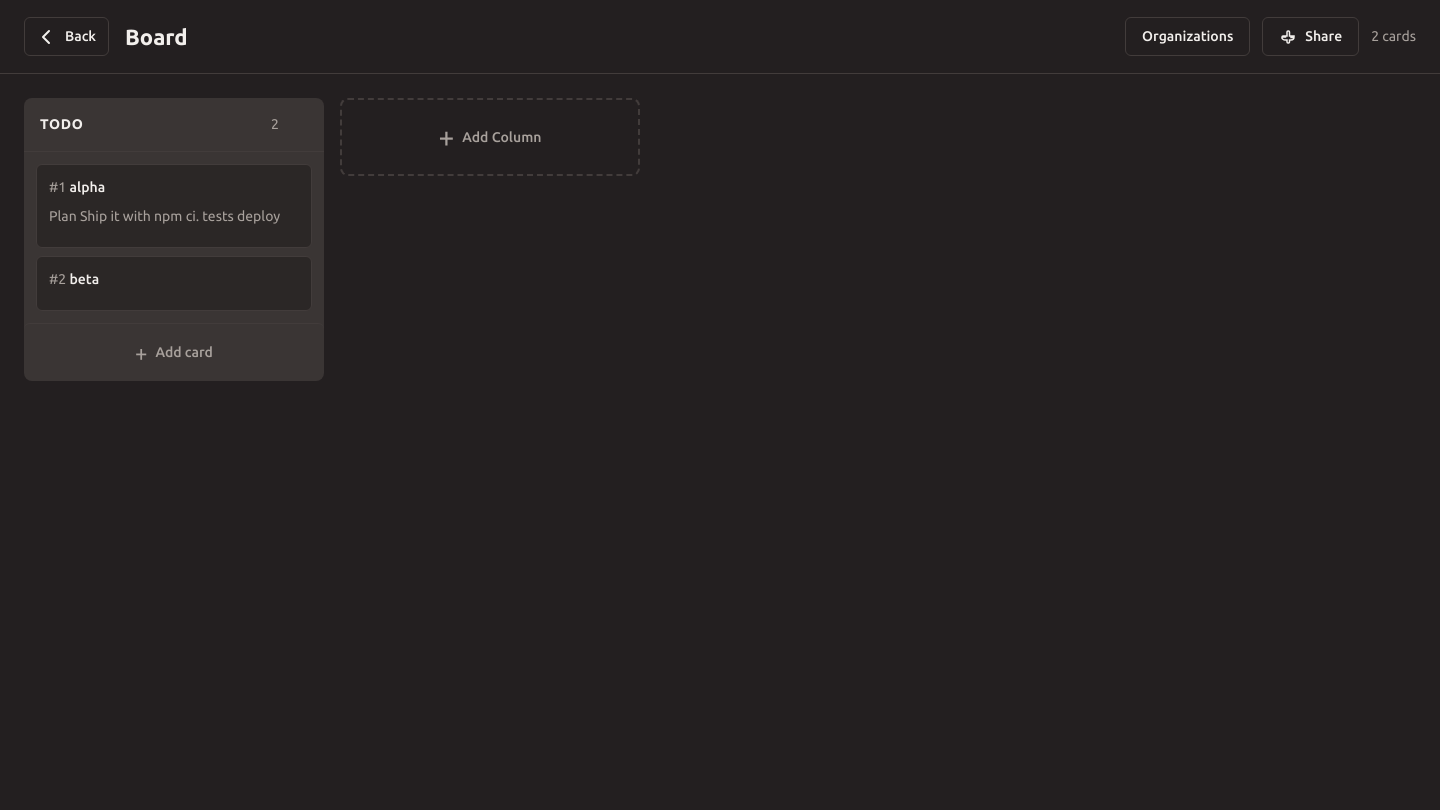
an open card › cancelling an edit keeps the card as it was
The width and height of the screenshot is (1440, 810).
Click the button "#1 alpha Plan Ship it with npm ci. tests deploy" at (174, 206), box [36, 164, 312, 248]
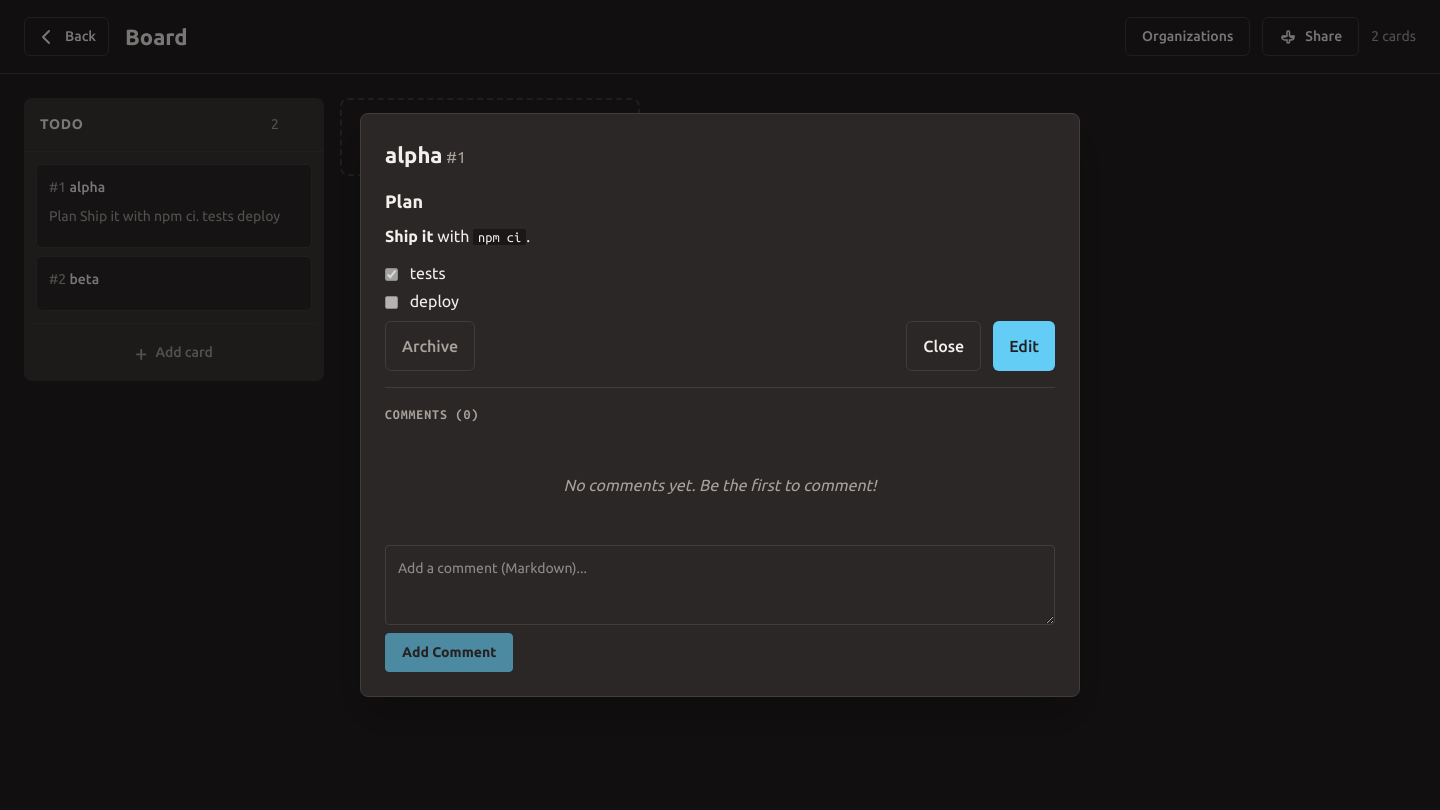
Click the button "Edit" at (1024, 346), box [993, 321, 1055, 371]
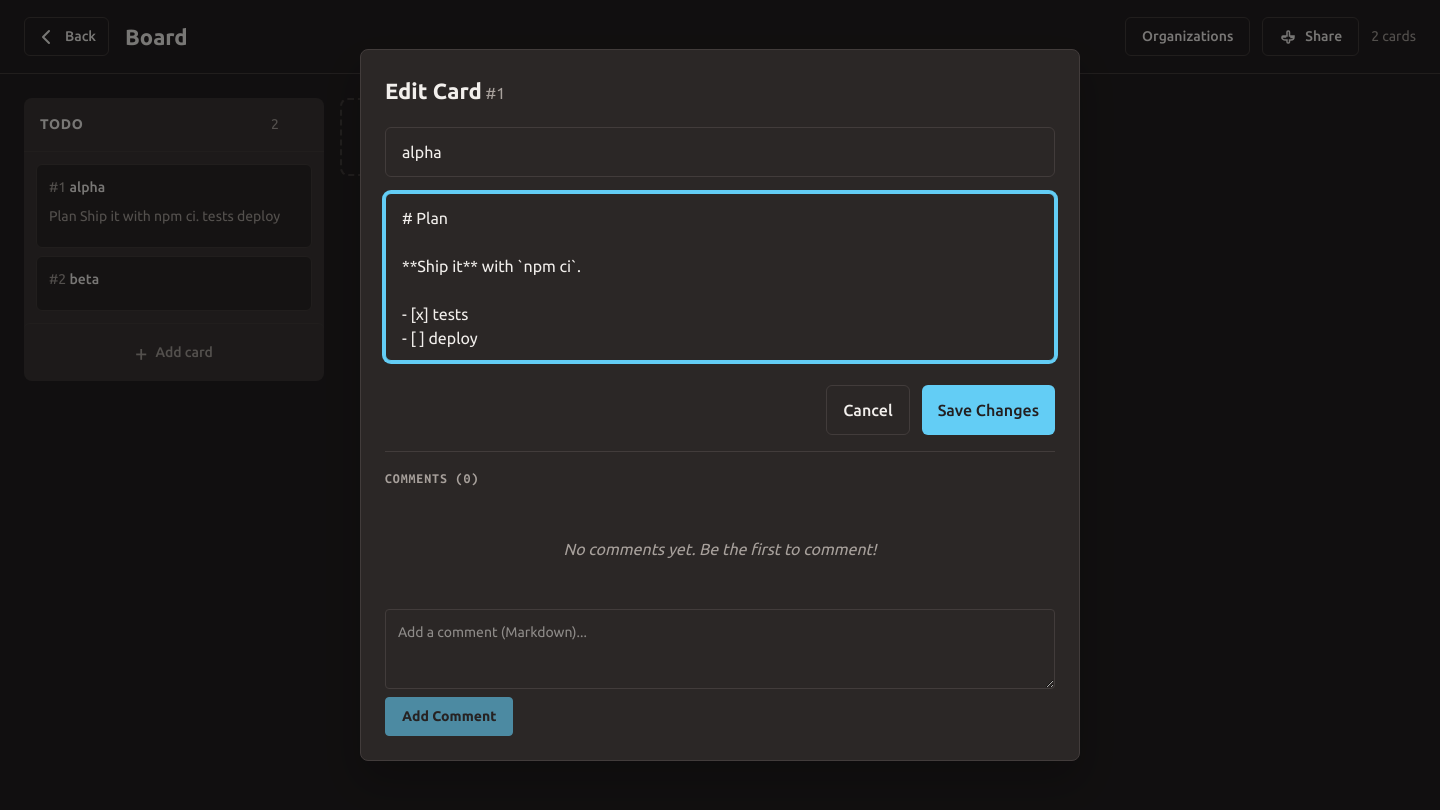
Replace the text in the text box named "Description" with "scrap" at (720, 277), box [385, 193, 1055, 361]
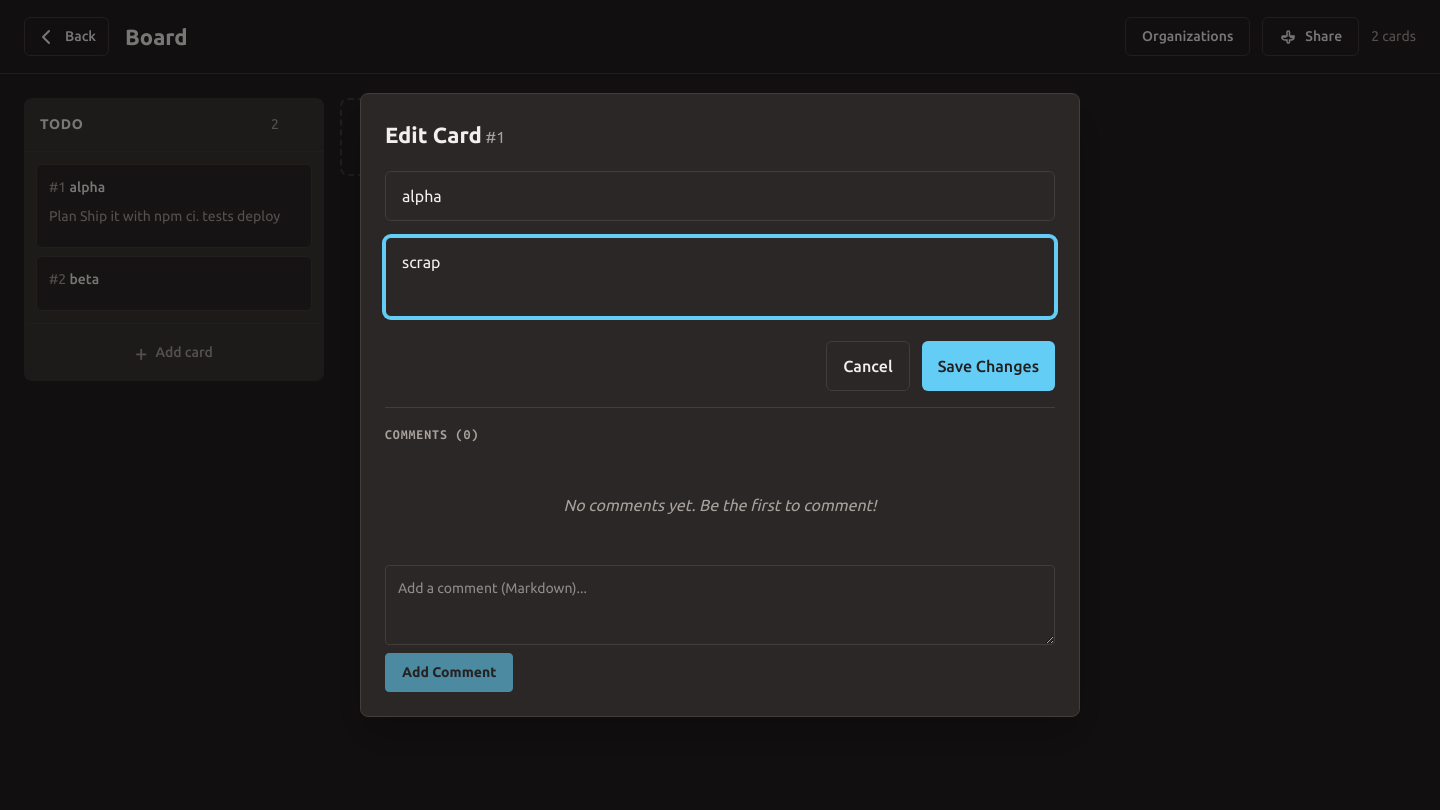
Click the button "Cancel" at (868, 366), box [826, 341, 910, 391]
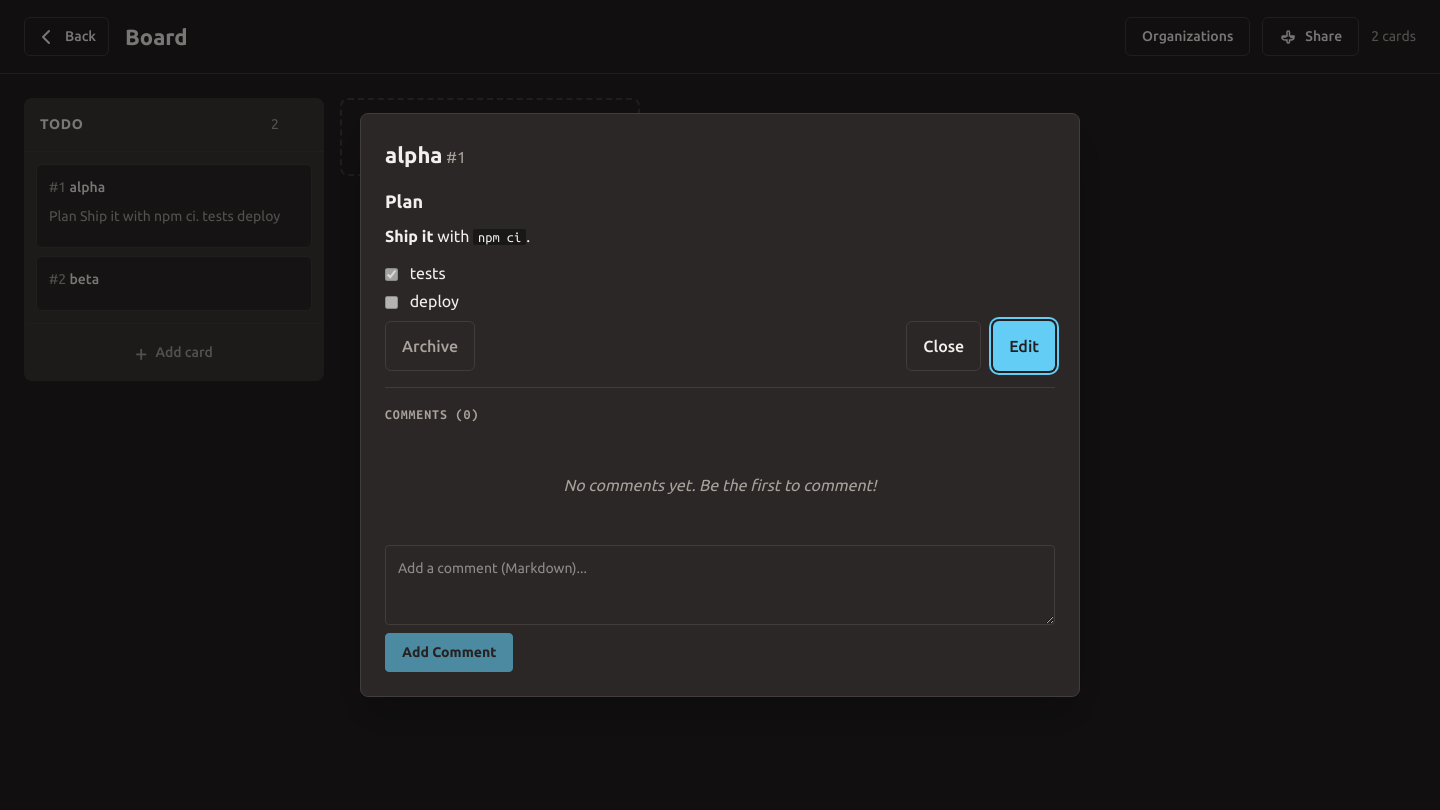
Check: the heading "Plan" is shown, box [385, 191, 423, 211]
